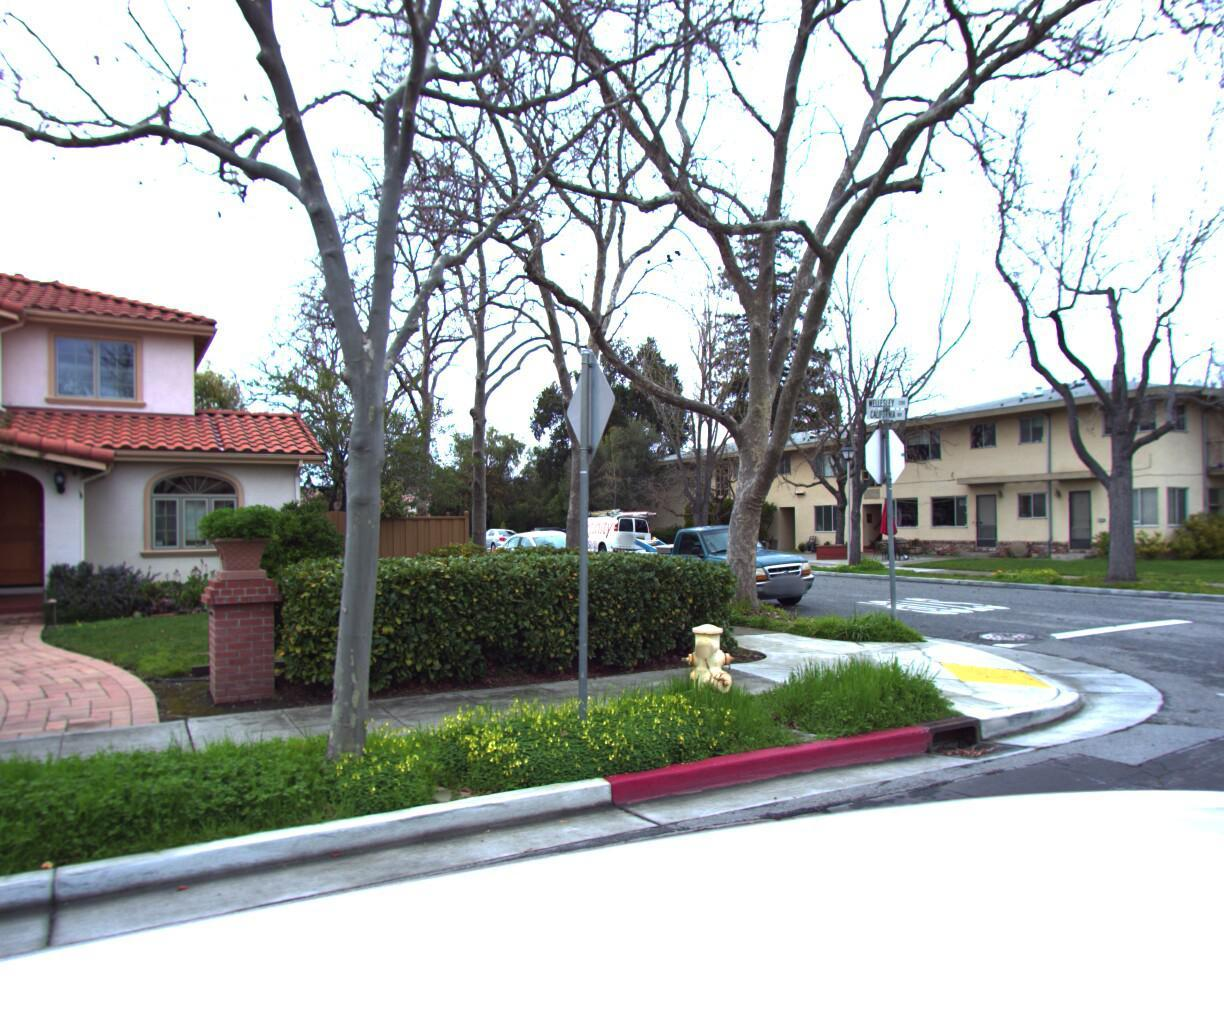car: (603, 520, 835, 617), (485, 530, 618, 596), (555, 513, 666, 571), (472, 535, 528, 562)
